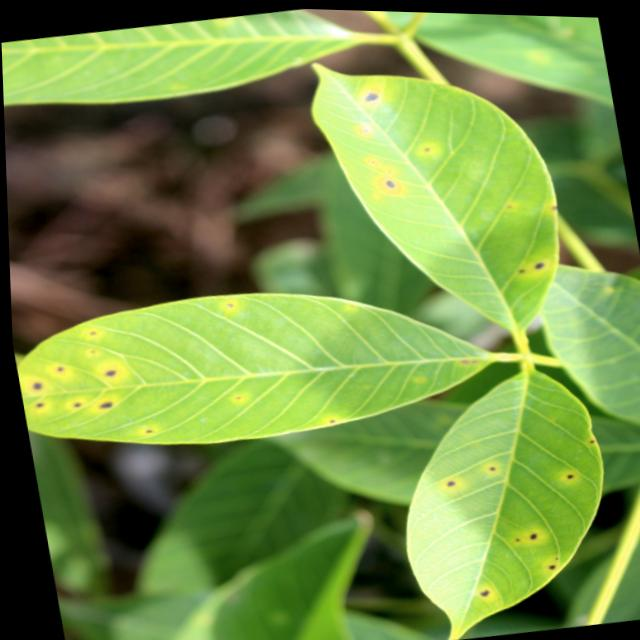Colletotrichum: (365, 89, 378, 99), (96, 399, 109, 408), (384, 176, 395, 185), (102, 368, 113, 375), (30, 381, 39, 388), (525, 529, 534, 536), (475, 587, 485, 593)
